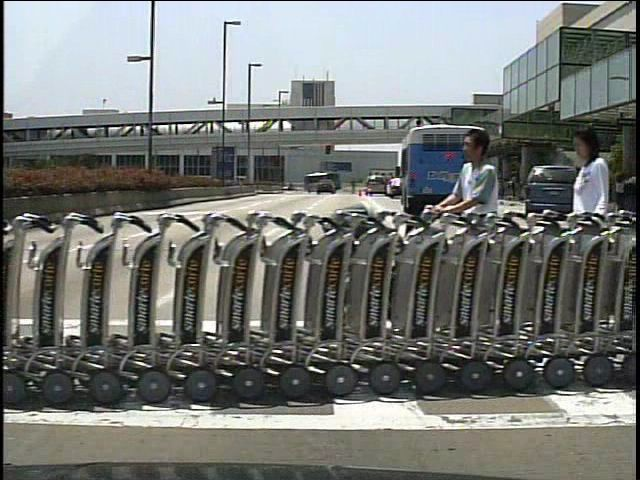person: (425, 124, 519, 365), (558, 116, 621, 330), (581, 165, 602, 215), (578, 163, 596, 218), (351, 176, 359, 196)
